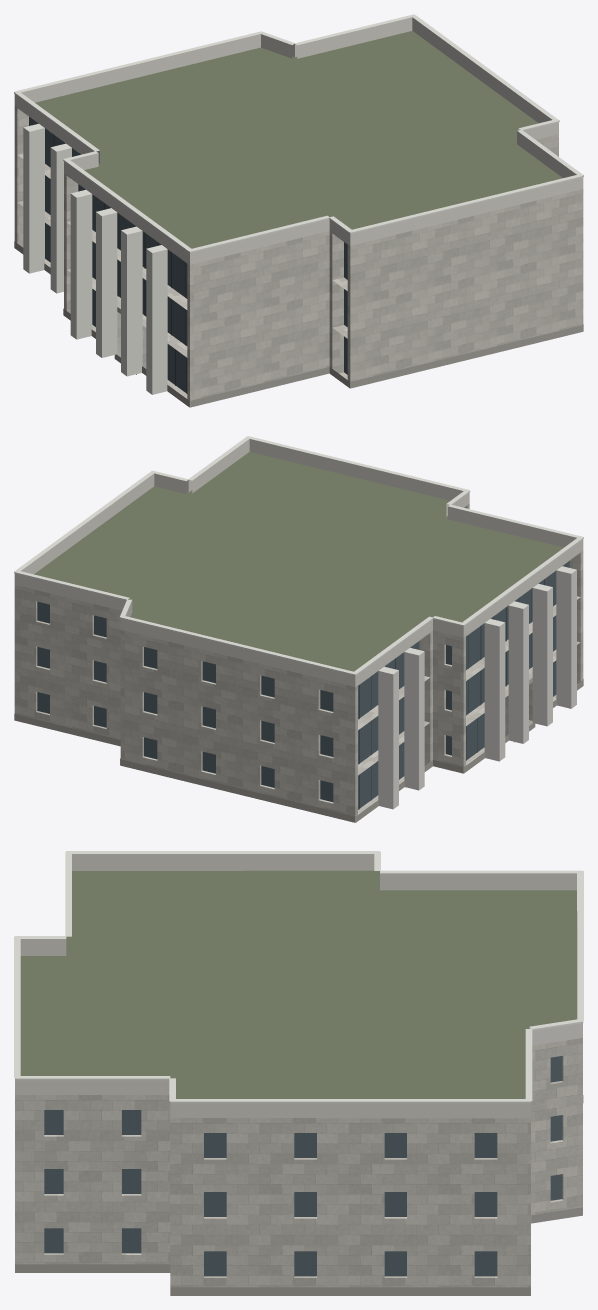
3 renders of one model, top to bottom at view 1: azimuth 30°, elevation 25°; view 2: azimuth 150°, elevation 25°; view 3: azimuth 270°, elevation 25°, orthographic. The views are drawn at different scales.
Visible parts, largest first — view 1: admission__roof, admission__wall, admission__trim, admission__parapet, admission__glass, admission__base, admission__frame; view 2: admission__roof, admission__wall, admission__trim, admission__parapet, admission__glass, admission__base, admission__frame; view 3: admission__roof, admission__wall, admission__parapet, admission__glass, admission__trim, admission__base.
Boxes of the visible parts, x1=… form: admission__roof: x1=35, y1=31, x2=562, y2=407; admission__wall: x1=14, y1=106, x2=583, y2=406; admission__trim: x1=14, y1=14, x2=583, y2=394; admission__parapet: x1=14, y1=17, x2=583, y2=264; admission__glass: x1=29, y1=117, x2=347, y2=393; admission__base: x1=14, y1=241, x2=583, y2=407; admission__frame: x1=53, y1=135, x2=187, y2=393; admission__roof: x1=34, y1=451, x2=563, y2=822; admission__wall: x1=14, y1=503, x2=583, y2=822; admission__trim: x1=14, y1=436, x2=583, y2=809; admission__parapet: x1=14, y1=439, x2=583, y2=686; admission__glass: x1=37, y1=561, x2=569, y2=809; admission__base: x1=14, y1=679, x2=583, y2=822; admission__frame: x1=359, y1=579, x2=544, y2=809; admission__roof: x1=20, y1=870, x2=577, y2=1254; admission__wall: x1=15, y1=1038, x2=582, y2=1287; admission__parapet: x1=15, y1=854, x2=582, y2=1118; admission__glass: x1=44, y1=1056, x2=562, y2=1276; admission__trim: x1=14, y1=851, x2=583, y2=1103; admission__base: x1=15, y1=1095, x2=583, y2=1295.
Size of the model in its own units: 32.96 by 11.9 by 30.57.
Materials: 8 (1 with a texture image).
